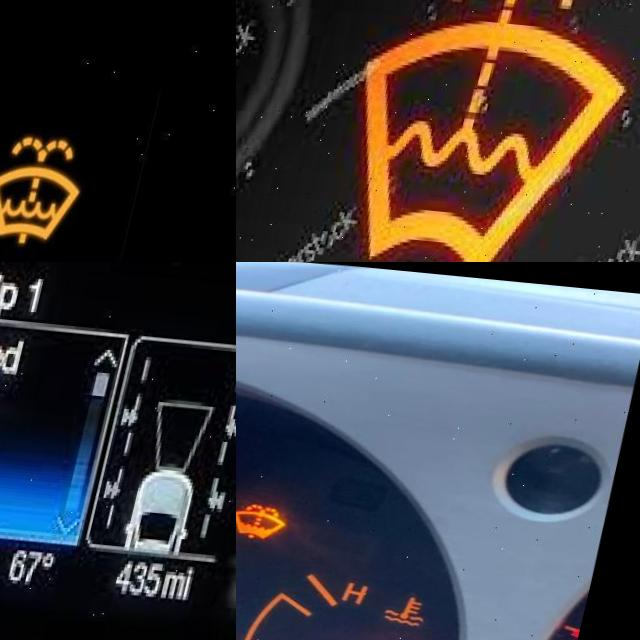Washer Fluid: (0, 124, 103, 243), (242, 496, 304, 536)
